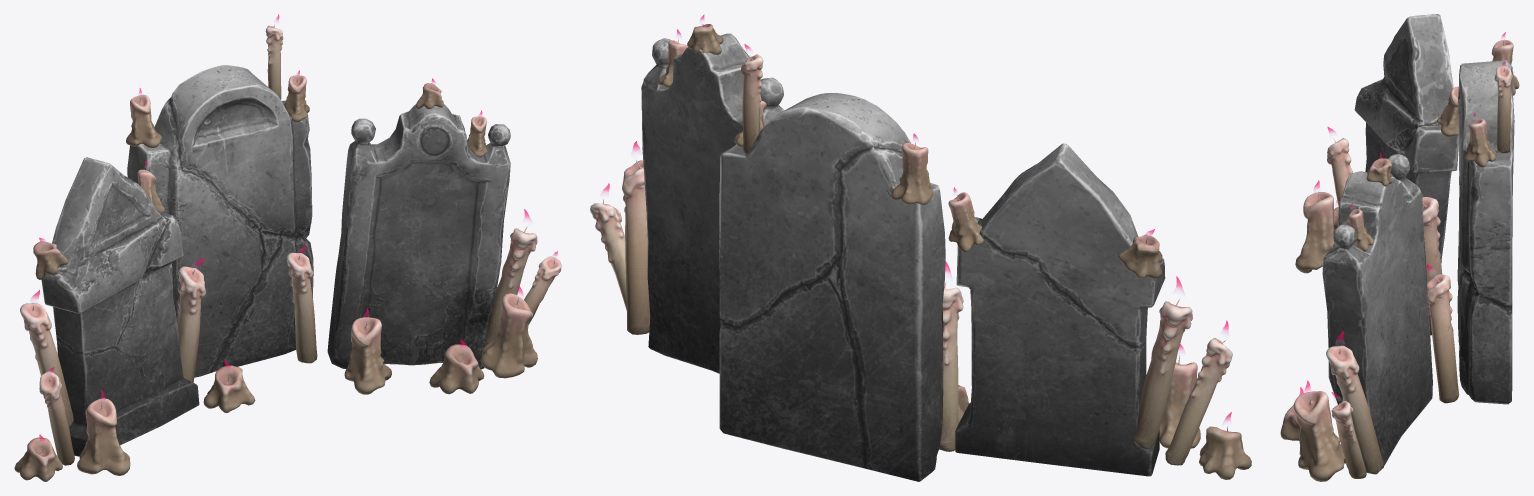
File: candles_and_tombstones.glb
3 renders of one model, left to right at view 1: azimuth 30°, elevation 25°; view 2: azimuth 150°, elevation 25°; view 3: azimuth 270°, elevation 25°, orthographic. The views are drawn at different scales.
Visible parts, largest first — view 1: Object_3, Object_2, Object_4; view 2: Object_3, Object_2; view 3: Object_3, Object_2, Object_4.
Boxes of the visible parts, x1,y1,x2,y2 form: Object_3: (20,14,561,465); Object_2: (14,75,537,481); Object_4: (39,70,531,444); Object_3: (590,33,1232,481); Object_2: (658,24,1251,479); Object_3: (1299,60,1514,478); Object_2: (1280,14,1519,481); Object_4: (1304,32,1505,395).
Size of the model in its own units: 3.27 by 1.91 by 1.21.
Materials: 1 (1 with a texture image).
